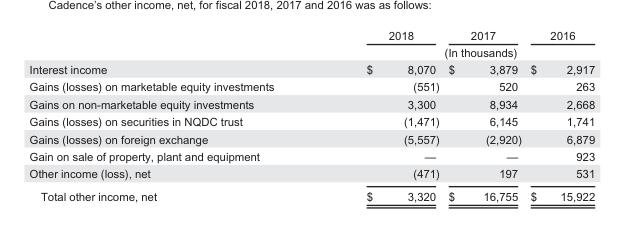table: (28, 28, 594, 202)
table column: (28, 28, 319, 202), (319, 28, 443, 202), (443, 28, 525, 202), (525, 28, 594, 202)
table column header: (28, 28, 594, 60)
table row: (28, 164, 594, 184), (28, 77, 594, 95), (28, 129, 594, 147), (28, 184, 594, 202), (28, 43, 594, 60), (28, 60, 594, 77), (28, 95, 594, 112), (28, 112, 594, 129), (28, 147, 594, 164), (28, 28, 594, 43)
table spanning cell: (319, 43, 594, 60)
